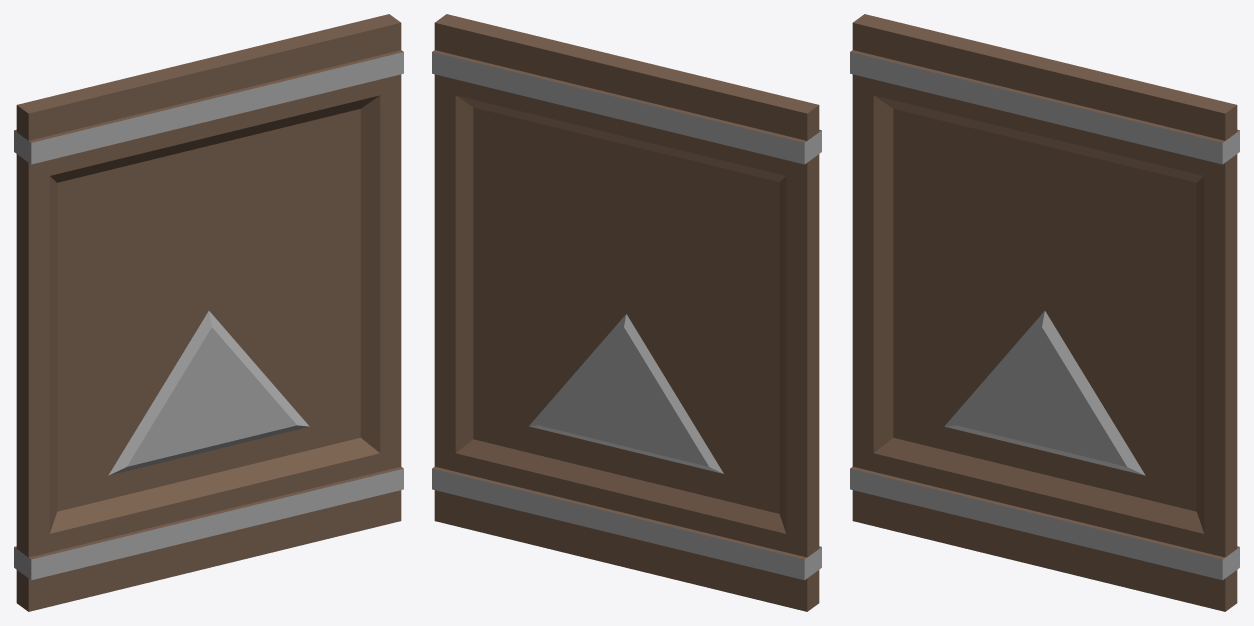
The model's file is SlideDoor.fbx.
The picture shows the model from 3 angles, left to right: view 1: azimuth 30°, elevation 25°; view 2: azimuth 150°, elevation 25°; view 3: azimuth 330°, elevation 25°; orthographic projection.
Parts seen in each view (by area): view 1: PortaDeslizar; view 2: PortaDeslizar; view 3: PortaDeslizar.
Boxes of the visible parts, x1,y1,x2,y2 form: PortaDeslizar: (14,14,403,611); PortaDeslizar: (432,14,821,611); PortaDeslizar: (850,14,1239,611).
Size of the model in its own units: 180 by 230 by 14.44.
